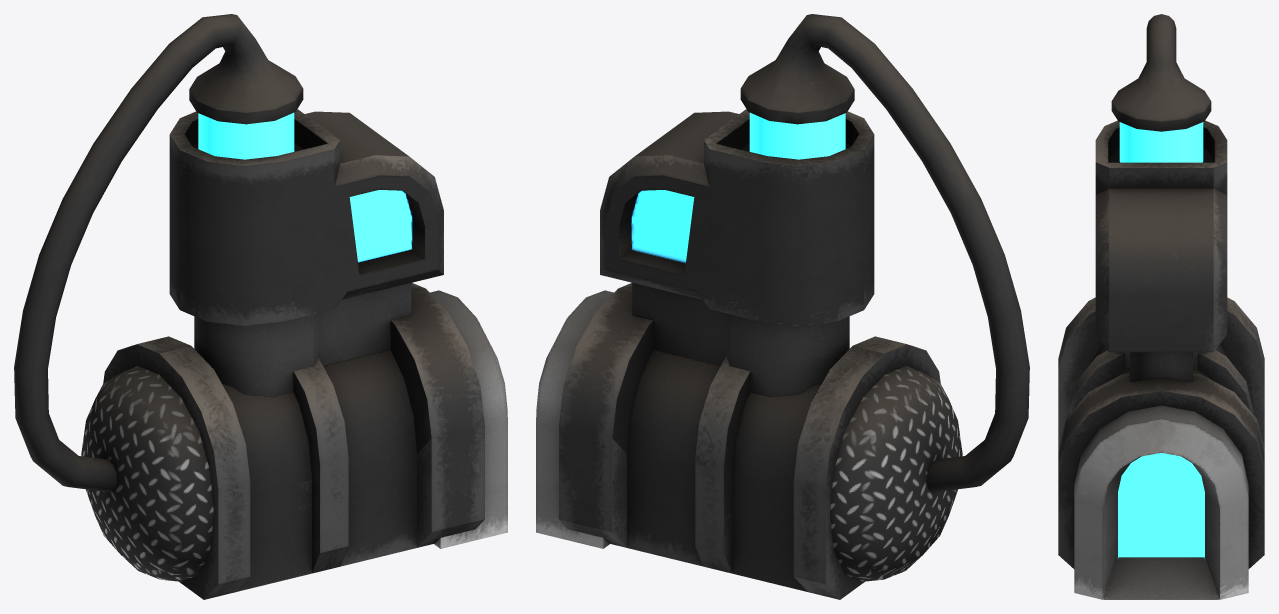
Rendered from laserdropper.fbx.
The picture shows the model from 3 angles, left to right: view 1: azimuth 30°, elevation 25°; view 2: azimuth 150°, elevation 25°; view 3: azimuth 270°, elevation 25°; orthographic projection. The views are drawn at different scales.
Visible parts, largest first — view 1: Cube.061; view 2: Cube.061; view 3: Cube.061.
Part boxes in pixels (<box>): Cube.061: <box>14,14,507,599</box>; Cube.061: <box>536,14,1029,599</box>; Cube.061: <box>1058,14,1264,599</box>.
Size of the model in its own units: 1.82 by 4.07 by 4.6.
Materials: 1 (1 with a texture image).
